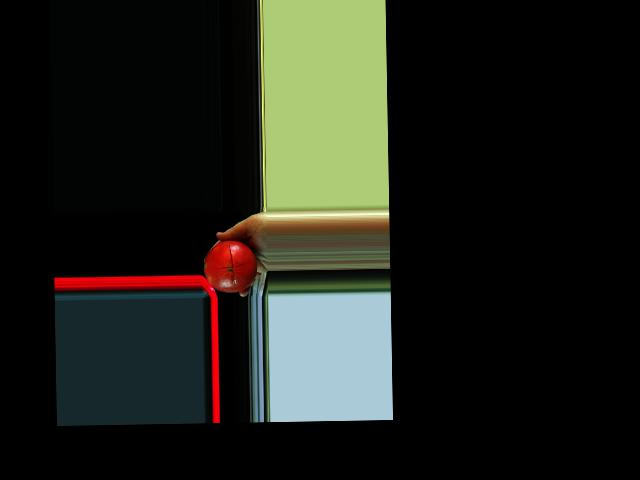tomato: (203, 239, 258, 293)
